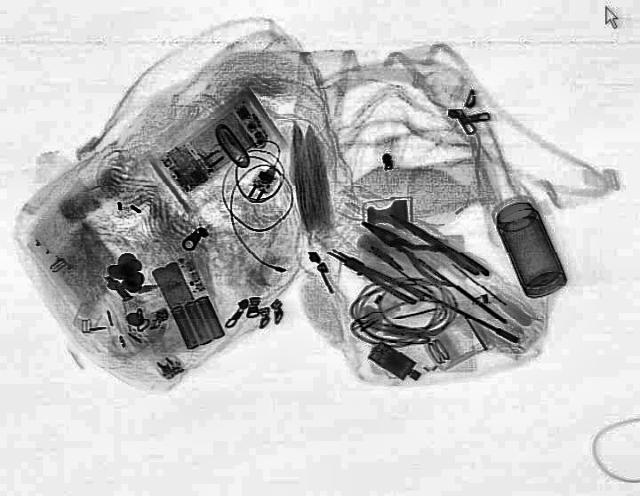Pliers: (347, 210, 473, 288), (381, 207, 493, 281), (321, 242, 425, 305)
